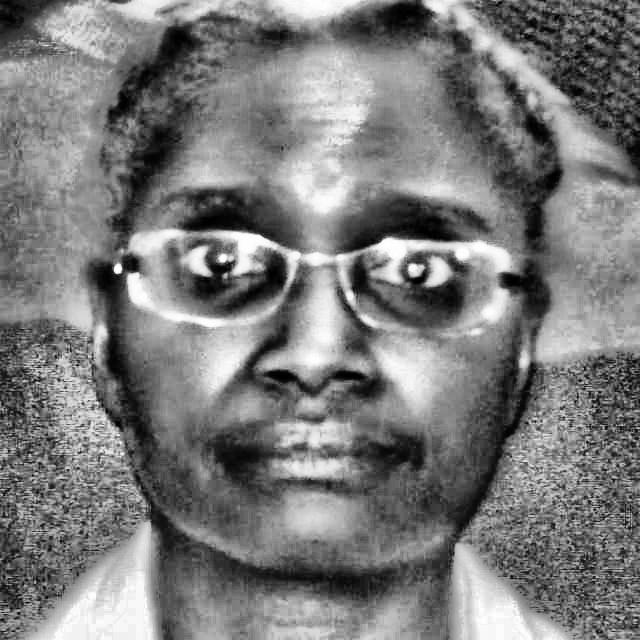sad: (67, 25, 549, 593)
